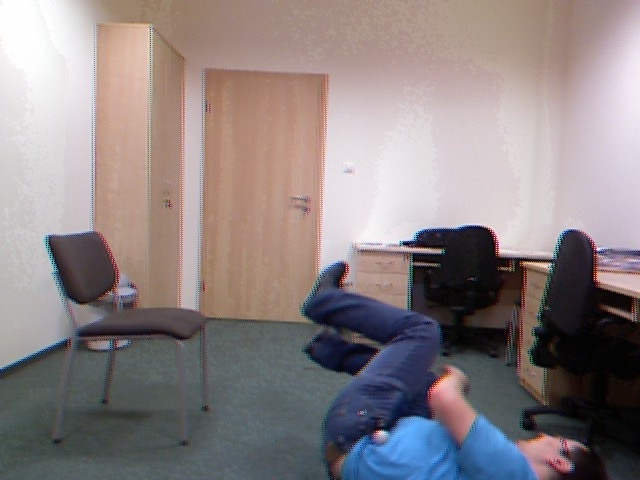fall: (301, 256, 622, 480)
